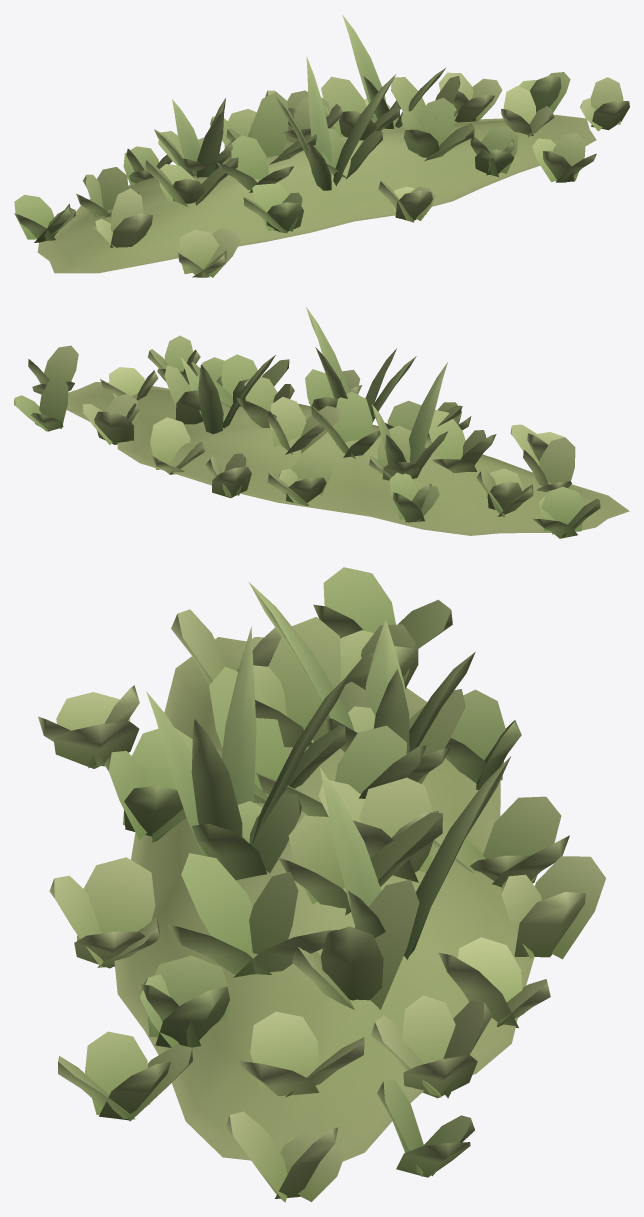
File: patch_strip_a.glb
3 views of the same model, one above another, from view 1: azimuth 30°, elevation 25°; view 2: azimuth 150°, elevation 25°; view 3: azimuth 270°, elevation 25° (orthographic). The views are drawn at different scales.
Visible parts, largest first — view 1: Patch_Strip_A.001; view 2: Patch_Strip_A.001; view 3: Patch_Strip_A.001.
Boxes of the visible parts, bbox=[...] form: Patch_Strip_A.001: bbox=[14, 14, 629, 277]; Patch_Strip_A.001: bbox=[14, 307, 629, 538]; Patch_Strip_A.001: bbox=[38, 567, 605, 1202].
Size of the model in its own units: 1.35 by 0.2917 by 0.5744.
